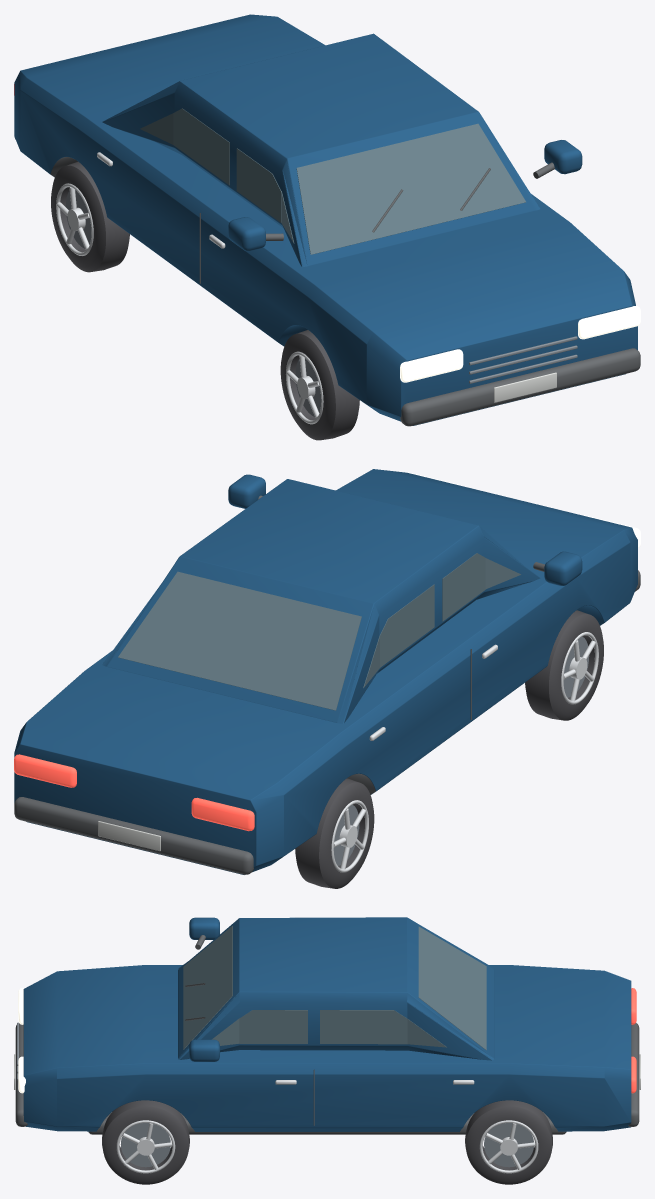
File: sedan.glb
3 views of the same model, one above another, from view 1: azimuth 30°, elevation 25°; view 2: azimuth 150°, elevation 25°; view 3: azimuth 270°, elevation 25° (orthographic). The views are drawn at different scales.
Parts seen in each view (by area): view 1: Coachwork lower body, Cab and roof, Front windscreen, Bumper, Front_tire, Rear_tire, Rear side glass, Front side glass.001, Headlamp, Headlamp.001, Mirror shell, Blank registration panel (+3 smaller); view 2: Coachwork lower body, Cab and roof, Rear windscreen, Bumper.001, Rear_tire, Front_tire, Rear side glass, Front side glass.001, Tail lamp, Tail lamp.001, Mirror shell, Blank registration panel.001 (+4 smaller); view 3: Coachwork lower body, Cab and roof, Rear windscreen, Rear_tire.001, Front_tire.001, Front windscreen, Rear side glass.002, Front side glass.003, Rear_brake.001, Front_brake.001, Underbody, Bumper.001 (+7 smaller).
Part boxes in pixels (box(x1,y1,x2,y2)): Coachwork lower body: box(14, 14, 637, 425); Cab and roof: box(102, 33, 540, 267); Front windscreen: box(296, 123, 525, 254); Bumper: box(400, 348, 640, 426); Front_tire: box(280, 330, 359, 440); Rear_tire: box(51, 161, 129, 272); Rear side glass: box(173, 108, 229, 185); Front side glass.001: box(236, 148, 281, 222); Headlamp: box(400, 349, 463, 382); Headlamp.001: box(578, 306, 640, 339); Mirror shell: box(228, 217, 265, 251); Blank registration panel: box(494, 372, 556, 402); Coachwork lower body: box(14, 469, 637, 874); Cab and roof: box(102, 479, 540, 723); Rear windscreen: box(118, 571, 361, 710); Bumper.001: box(14, 797, 253, 874); Rear_tire: box(295, 778, 374, 888); Front_tire: box(525, 610, 603, 720); Rear side glass: box(380, 584, 434, 667); Front side glass.001: box(442, 553, 485, 621); Tail lamp: box(191, 797, 254, 831); Tail lamp.001: box(14, 754, 76, 787); Mirror shell: box(544, 551, 582, 585); Blank registration panel.001: box(98, 821, 160, 851); Coachwork lower body: box(23, 965, 631, 1131); Cab and roof: box(178, 917, 494, 1060); Rear windscreen: box(418, 926, 486, 1050); Rear_tire.001: box(465, 1100, 552, 1184); Front_tire.001: box(102, 1100, 189, 1184); Front windscreen: box(183, 926, 232, 1049); Rear side glass.002: box(320, 1010, 407, 1044); Front side glass.003: box(239, 1010, 307, 1043); Rear_brake.001: box(484, 1123, 533, 1167); Front_brake.001: box(120, 1123, 170, 1167); Underbody: box(88, 1112, 566, 1134); Bumper.001: box(628, 1023, 639, 1126).
Size of the model in its own units: 2.32 by 1.48 by 4.7.
